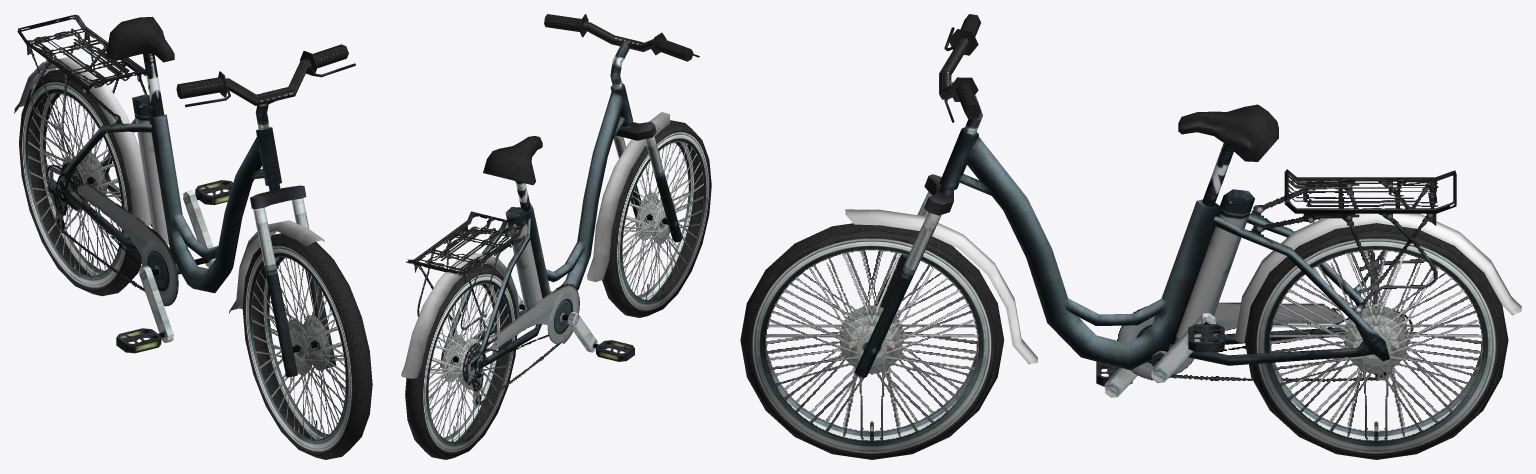
Rendered from bike-3.FBX.
3 views of the same model, side by side, from view 1: azimuth 30°, elevation 25°; view 2: azimuth 150°, elevation 25°; view 3: azimuth 270°, elevation 25° (orthographic). The views are drawn at different scales.
Parts seen in each view (by area): view 1: bicycle-3_LOD0, F_Wheel_LOD0, R_Wheel_LOD0; view 2: bicycle-3_LOD0, F_Wheel_LOD0, R_Wheel_LOD0; view 3: bicycle-3_LOD0, F_Wheel_LOD0, R_Wheel_LOD0.
Boxes of the visible parts, x1,y1,x2,y2 form: bicycle-3_LOD0: (14,14,355,377); F_Wheel_LOD0: (242,233,372,459); R_Wheel_LOD0: (19,69,141,296); bicycle-3_LOD0: (401,14,699,406); F_Wheel_LOD0: (602,120,711,317); R_Wheel_LOD0: (405,263,517,459); bicycle-3_LOD0: (845,14,1521,397); F_Wheel_LOD0: (740,223,1004,459); R_Wheel_LOD0: (1244,223,1508,459).
Size of what is drawn, in the model's own units: 23.17 by 46.8 by 81.69.
